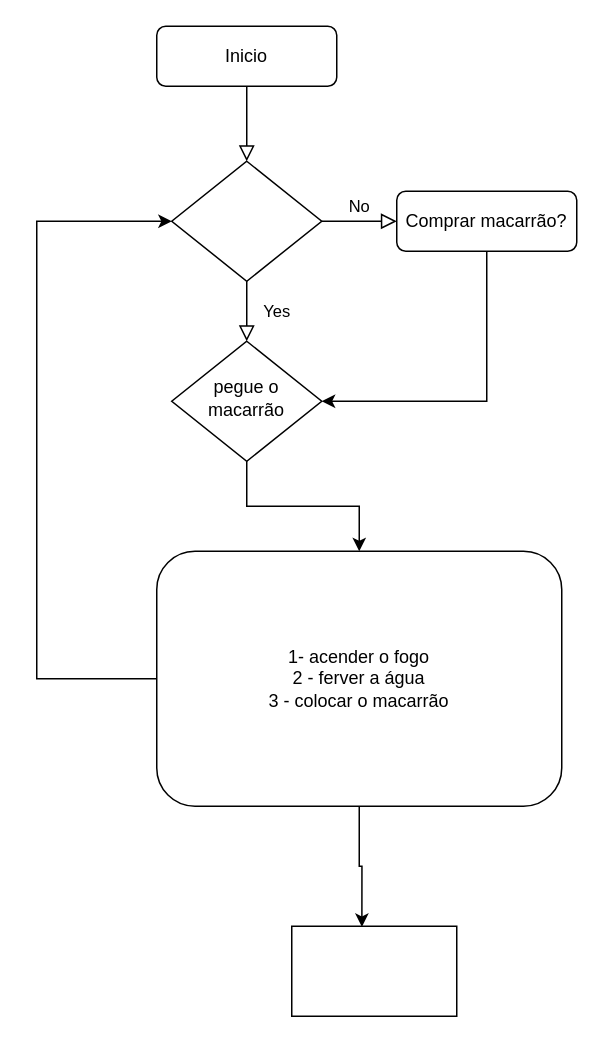
The diagram is 603 pixels wide and 1043 high, and some of its shapes have lost their labels. Each missing label, with the centre of its shape:
fim: the point at 373,970
Tem macarrão?: the point at 246,220
